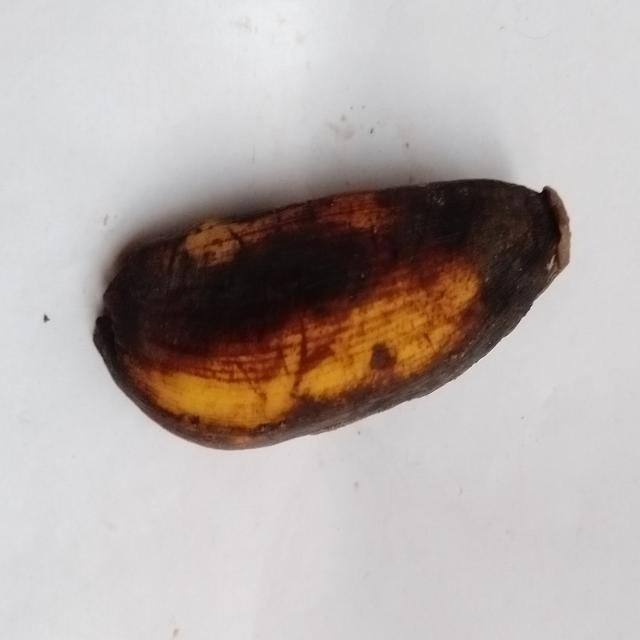banana: (95, 181, 569, 447)
